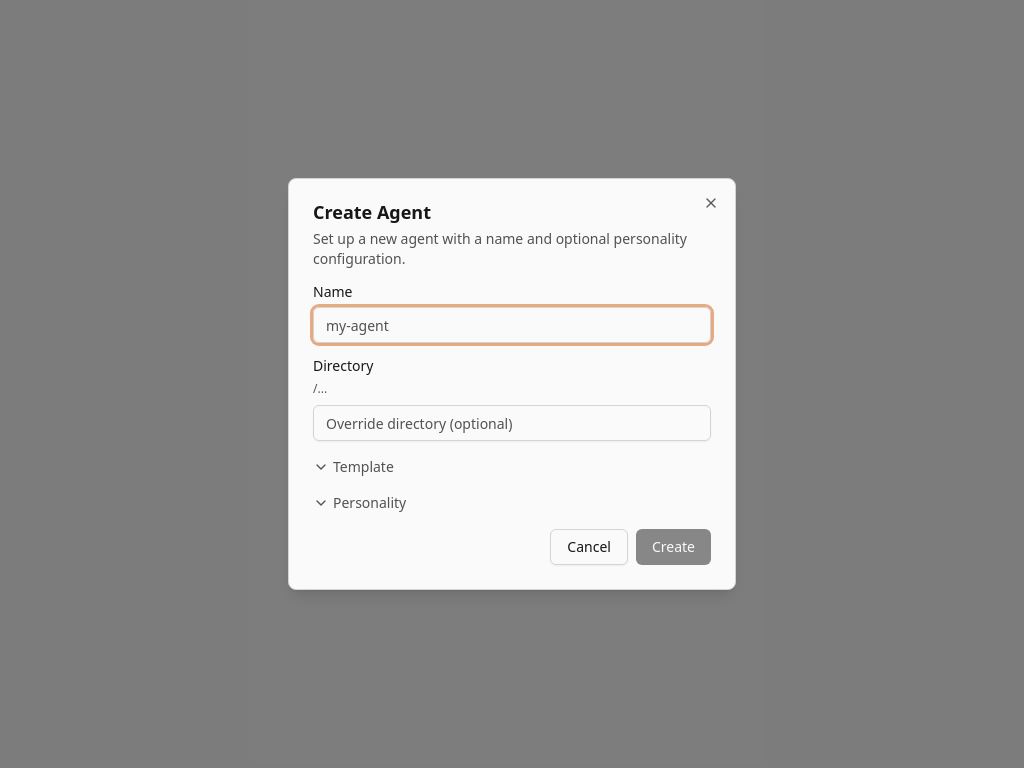
Test case: CreateAgentDialog › shows inline validation error for invalid name
Step 1. Type "INVALID_NAME" into the field labelled "Name" → (512, 325), box top-left (313, 307), bottom-right (711, 343)
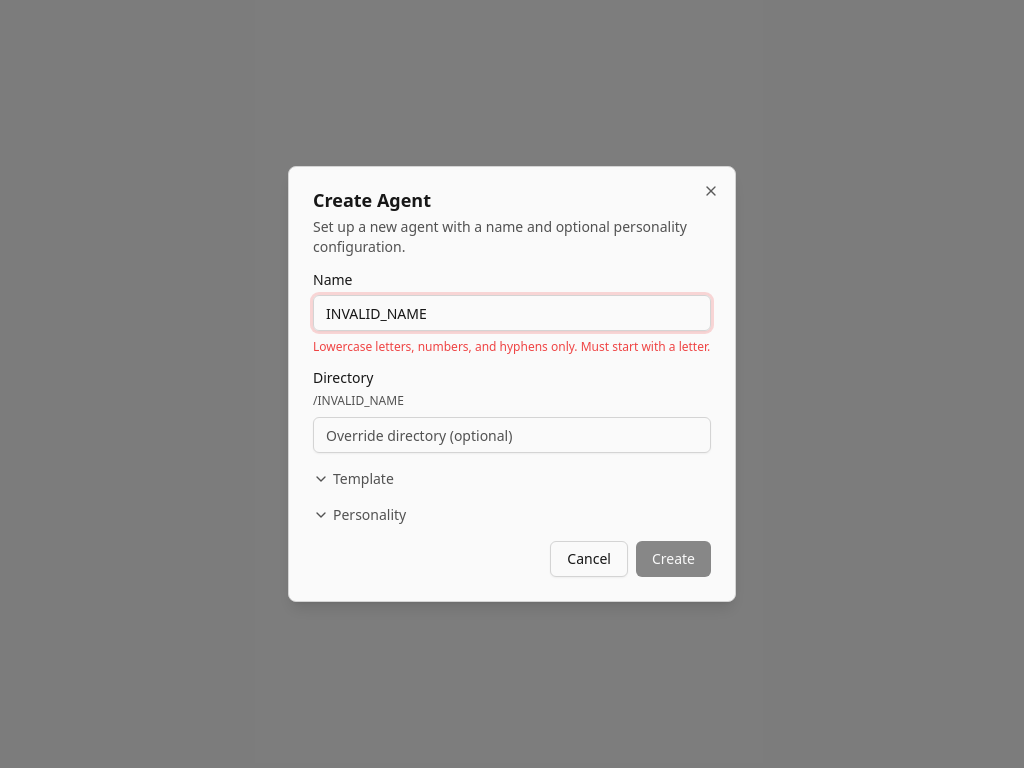
Now the text "Lowercase letters, numbers, and hyphens only. Must start with a letter." is shown, box top-left (313, 339), bottom-right (711, 355)
